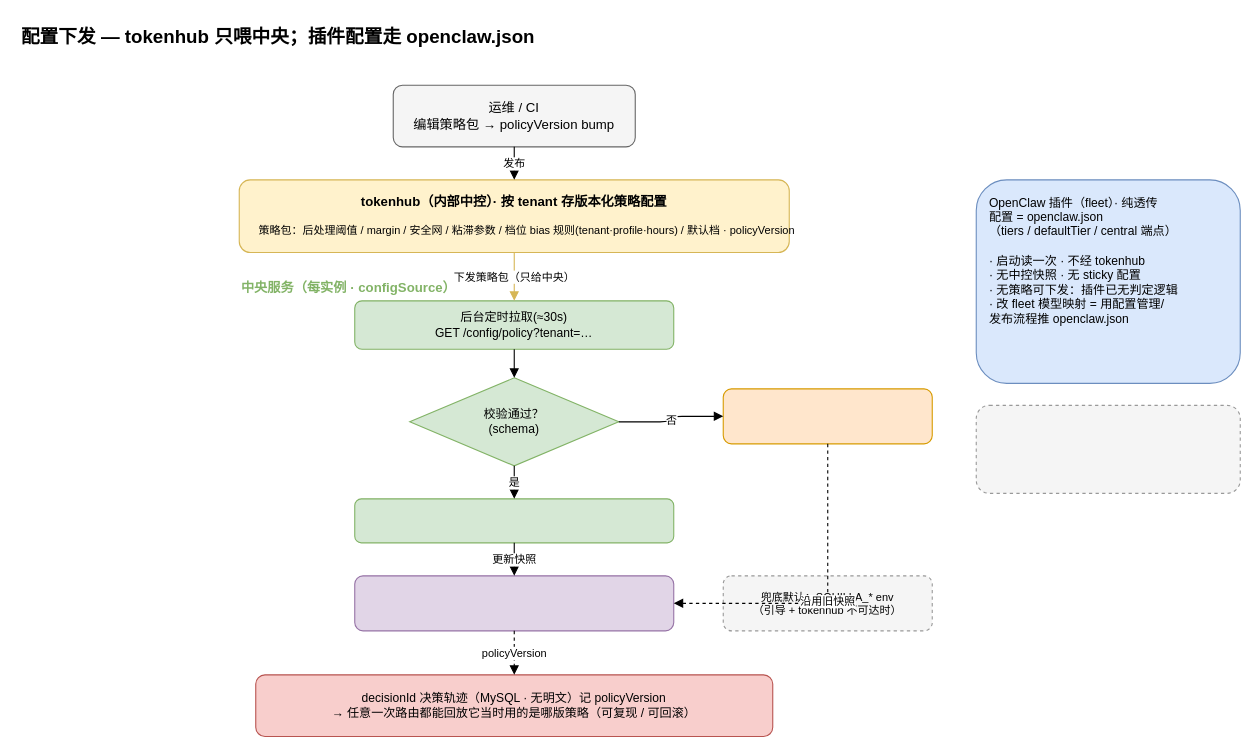
This 1260x756 diagram has some shape labels left out. Each missing label, with the centre of its shape:
保留 last-known-good + 告警（fail-open）: the point at 827,416
原子替换单槽快照: the point at 514,520
所有者划分： 热改（策略/阈值/粘滞）→ tokenhub → 中央 冷改（虚拟 id ↔ 真实模型）→ openclaw.json → 插件: the point at 1107,448
热路径 Central._route 只读当前快照（绝不 per-turn 拉取）: the point at 514,603
